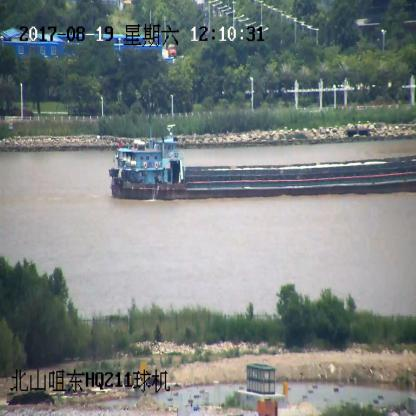Bulk Carrier: (109, 121, 416, 201)
